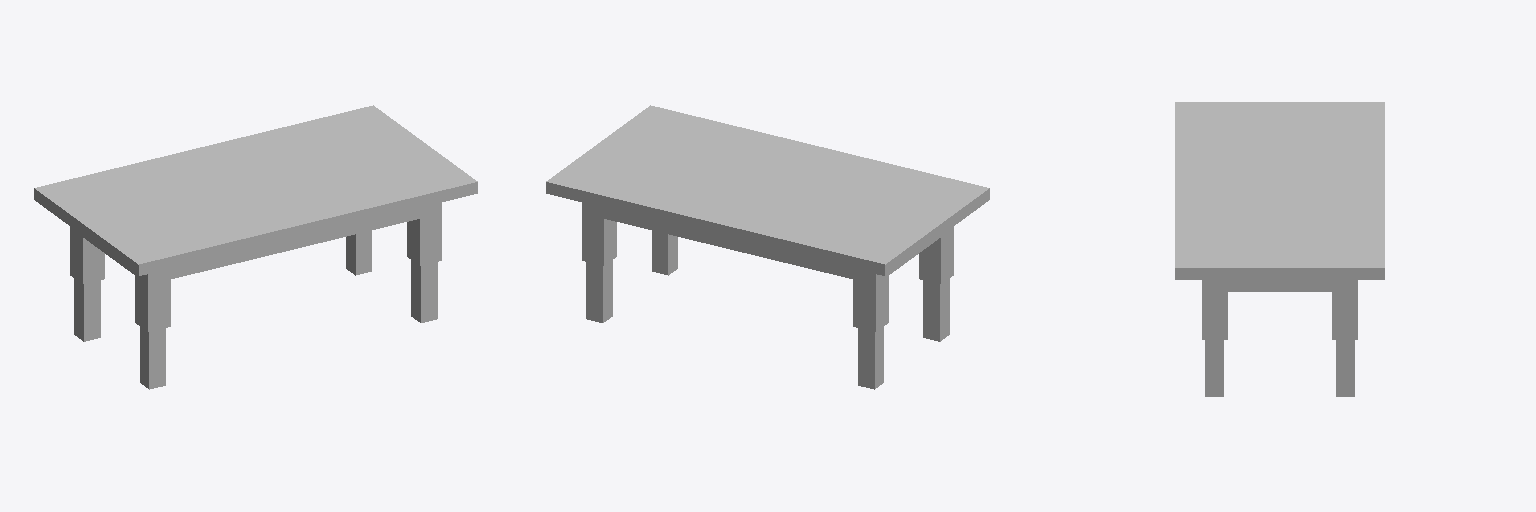
File: table.obj
The picture shows the model from 3 angles: view 1: azimuth 30°, elevation 25°; view 2: azimuth 150°, elevation 25°; view 3: azimuth 270°, elevation 25°; orthographic projection.
Visible parts, largest first — view 1: table_Cube.001; view 2: table_Cube.001; view 3: table_Cube.001.
Boxes of the visible parts, <box> form: table_Cube.001: <box>34,105,477,389</box>; table_Cube.001: <box>546,105,989,389</box>; table_Cube.001: <box>1175,102,1384,396</box>.
Size of the model in its own units: 1.5 by 0.6 by 0.8.